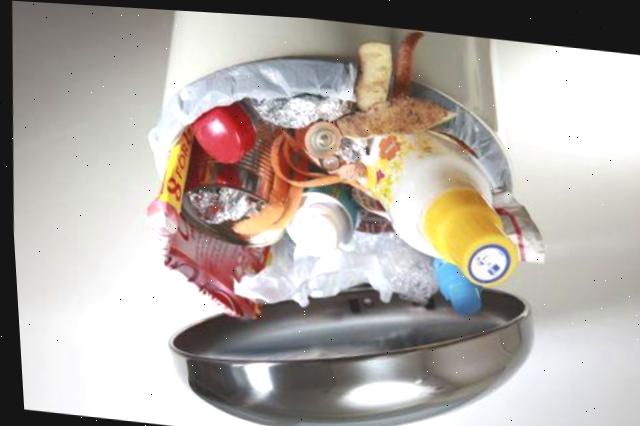Garbage: (143, 26, 540, 313)
Metal: (248, 88, 352, 124), (302, 115, 339, 153)
Plastic_Bag: (231, 224, 434, 301)
Plastic_Container: (359, 125, 514, 278), (284, 178, 354, 249), (189, 99, 252, 159), (430, 253, 476, 307)
tin_box: (179, 119, 279, 242)
